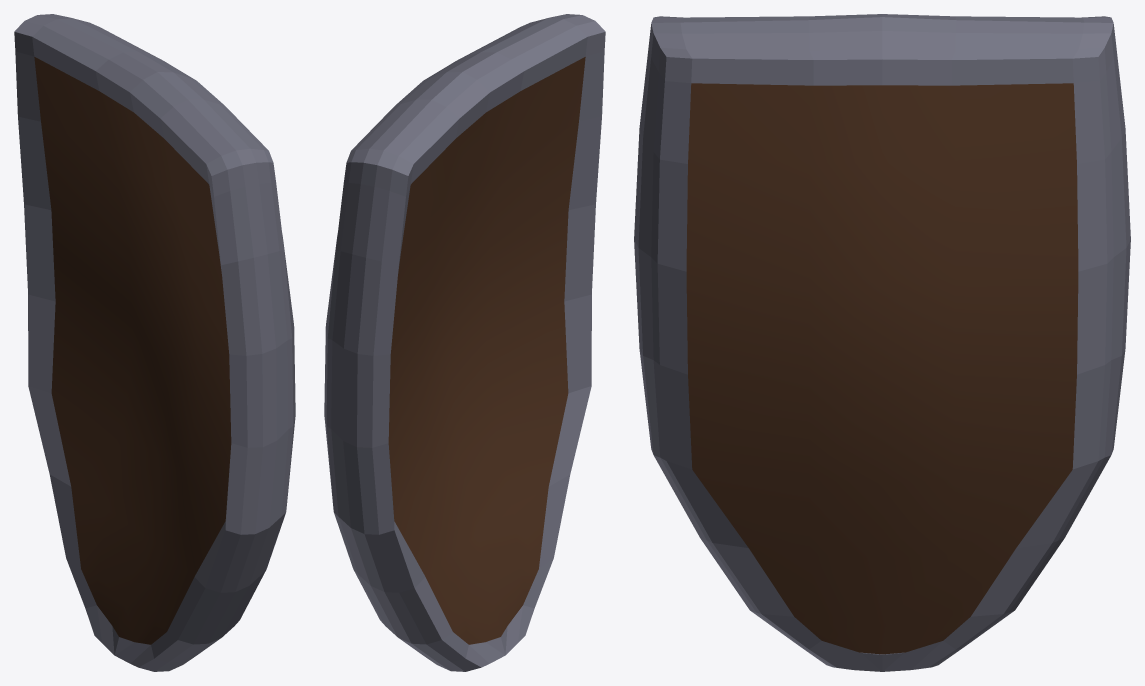
The picture shows the model from 3 angles, left to right: view 1: azimuth 30°, elevation 25°; view 2: azimuth 150°, elevation 25°; view 3: azimuth 270°, elevation 25°; orthographic projection. The views are drawn at different scales.
Visible parts, largest first — view 1: SH, SH2; view 2: SH, SH2; view 3: SH, SH2.
Part boxes in pixels (x1=…): SH: x1=34, y1=57, x2=231, y2=644; SH2: x1=14, y1=14, x2=295, y2=671; SH: x1=388, y1=57, x2=585, y2=644; SH2: x1=324, y1=14, x2=605, y2=671; SH: x1=686, y1=83, x2=1078, y2=654; SH2: x1=634, y1=14, x2=1130, y2=671.
Bounding box in the file's own units: 0.6758 × 3.27 × 2.24.
